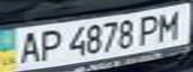4: (63, 22, 87, 56)
7: (100, 19, 121, 53)
8: (115, 16, 139, 50), (84, 21, 106, 56)
A: (12, 28, 45, 65)
M: (151, 7, 187, 42)
P: (33, 27, 63, 62), (133, 11, 163, 46)
